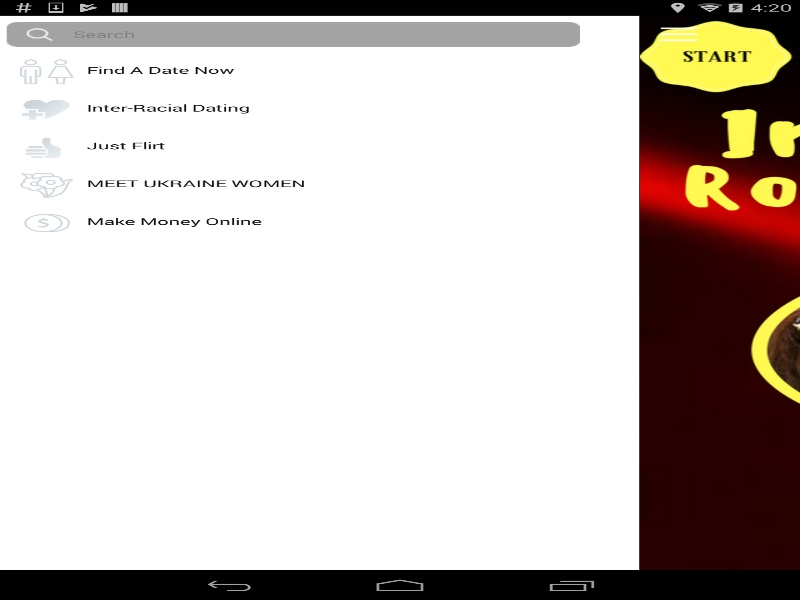Input: (6, 21, 580, 46)
